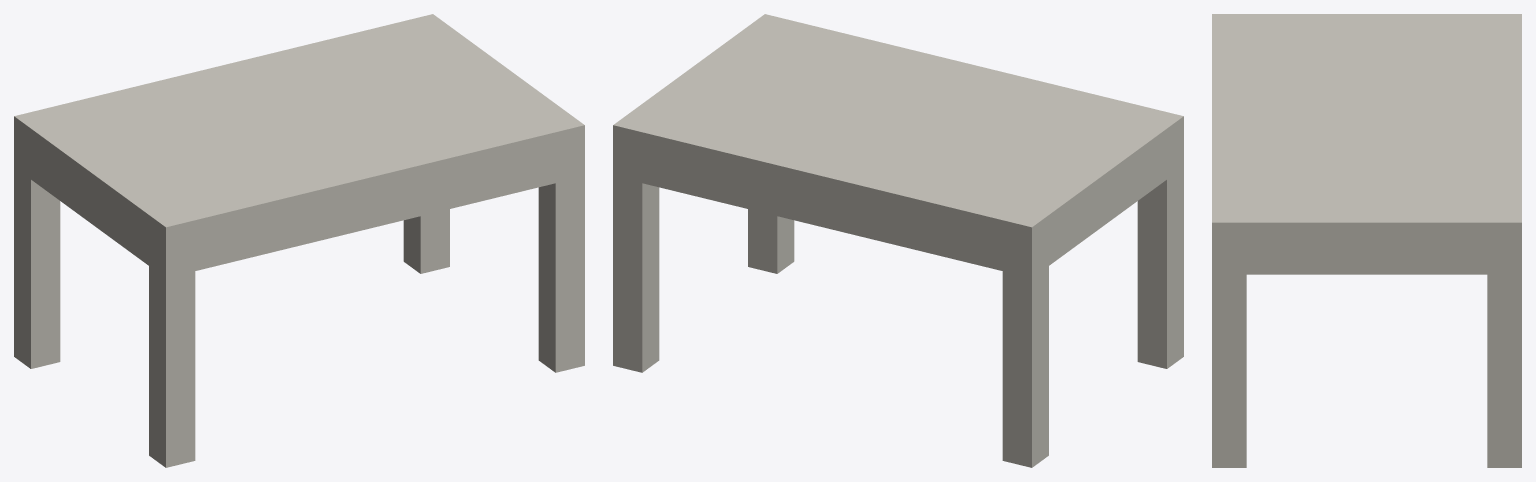
The model's file is white_table2.fbx.
3 renders of one model, left to right at view 1: azimuth 30°, elevation 25°; view 2: azimuth 150°, elevation 25°; view 3: azimuth 270°, elevation 25°, orthographic. The views are drawn at different scales.
Visible parts, largest first — view 1: Cube; view 2: Cube; view 3: Cube.
Boxes of the visible parts, left/top/right/bottom form: Cube: left=14, top=14, right=584, bottom=467; Cube: left=613, top=14, right=1183, bottom=467; Cube: left=1212, top=14, right=1521, bottom=467.
Bounding box in the file's own units: 430 × 236 × 270.
